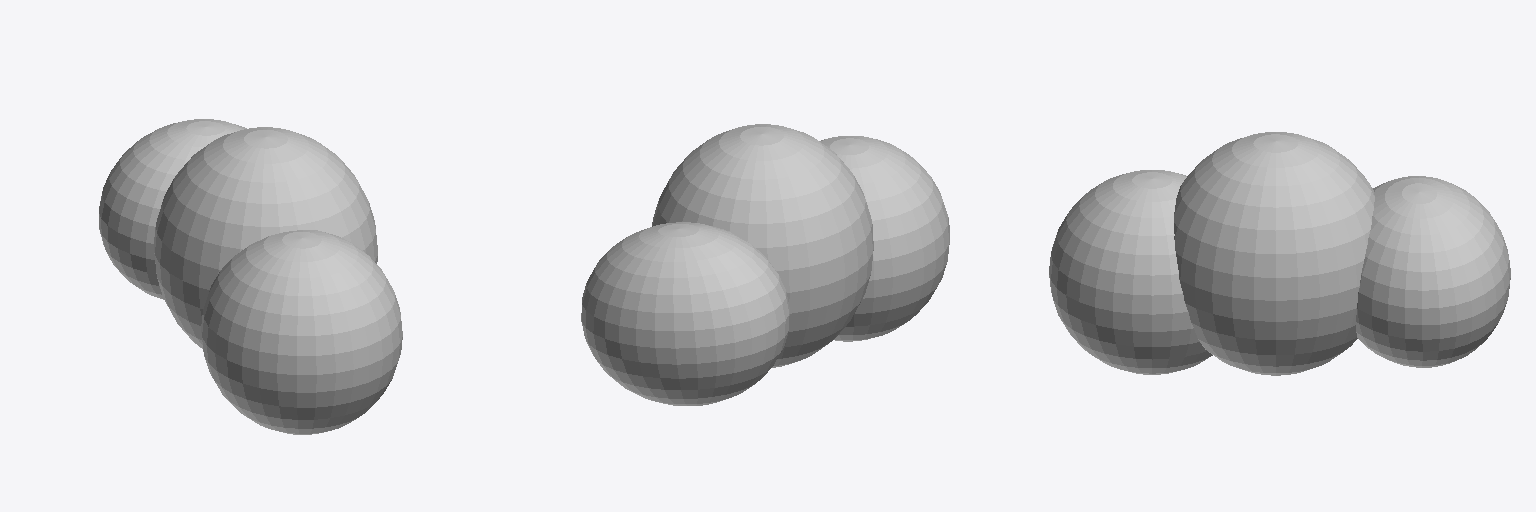
The model's file is cloud.obj.
The picture shows the model from 3 angles: view 1: azimuth 30°, elevation 25°; view 2: azimuth 150°, elevation 25°; view 3: azimuth 270°, elevation 25°; orthographic projection.
Visible parts, largest first — view 1: Sphere.002, Sphere, Sphere.001; view 2: Sphere.001, Sphere, Sphere.002; view 3: Sphere, Sphere.001, Sphere.002.
Part boxes in pixels (x1,y1,x2,y2): Sphere.002: (201, 230, 402, 434); Sphere: (154, 127, 377, 348); Sphere.001: (99, 119, 246, 299); Sphere.001: (581, 222, 789, 405); Sphere: (652, 124, 873, 367); Sphere.002: (820, 136, 949, 341); Sphere: (1174, 132, 1374, 375); Sphere.001: (1356, 176, 1510, 367); Sphere.002: (1049, 170, 1212, 374).
Size of the model in its own units: 1.34 by 1.46 by 2.57.